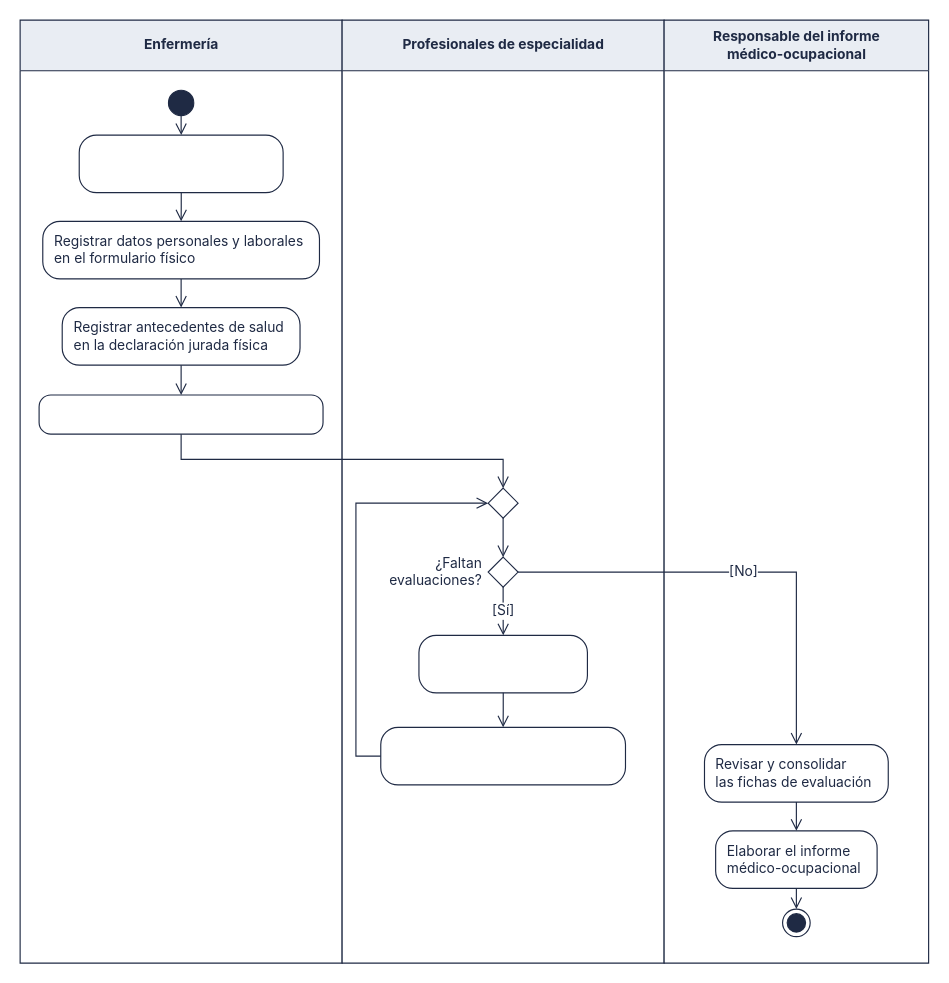
Image size: 949x983. Some labels were removed from this diagram. The shapes that lost their labels are listed below. From the top down, each one's centre as x and y in pixels, then its label:
(x=180, y=163): Recibir al trabajador y verificar su identificación
(x=180, y=414): Derivar a las especialidades requeridas
(x=502, y=663): Realizar la evaluación por especialidad
(x=502, y=755): Registrar los resultados en la ficha física correspondiente
